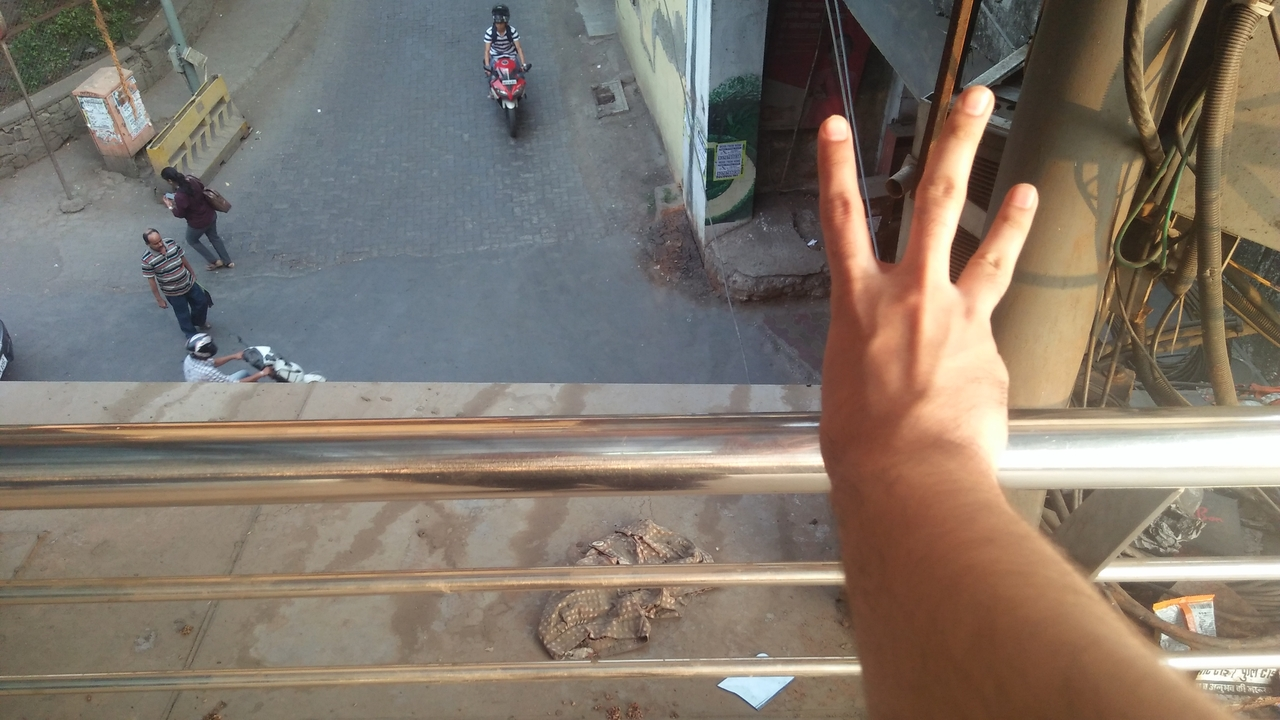fingertip: (943, 76, 1001, 132), (994, 174, 1050, 226), (812, 104, 858, 148)
